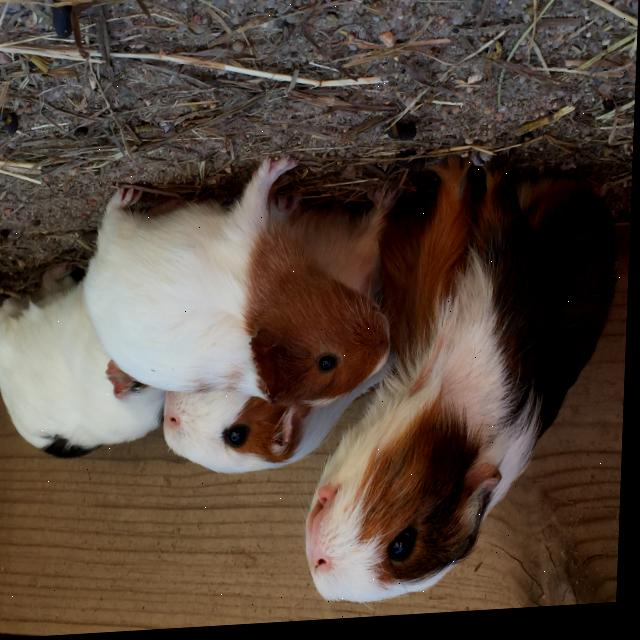guinea pig: (300, 134, 635, 610), (83, 147, 407, 428)
